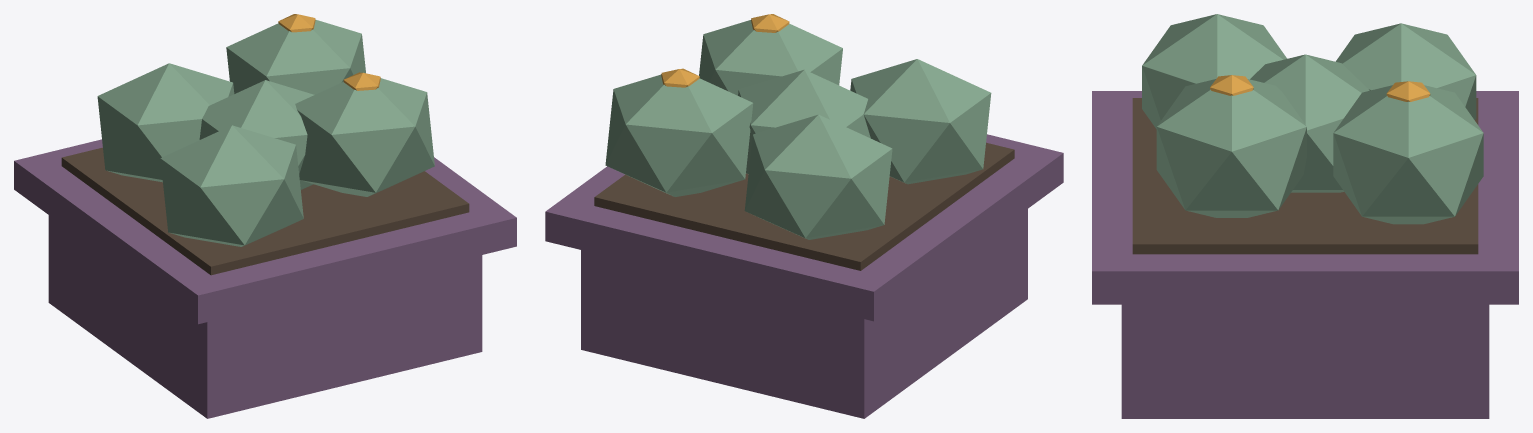
Rendered from furniture_planter.glb.
The picture shows the model from 3 angles, left to right: view 1: azimuth 30°, elevation 25°; view 2: azimuth 150°, elevation 25°; view 3: azimuth 270°, elevation 25°; orthographic projection. The views are drawn at different scales.
Parts seen in each view (by area): view 1: furniture_planter plum, furniture_planter leaf, furniture_planter patina, furniture_planter pine, furniture_planter soil, furniture_planter ochre; view 2: furniture_planter plum, furniture_planter leaf, furniture_planter patina, furniture_planter pine, furniture_planter soil, furniture_planter ochre; view 3: furniture_planter plum, furniture_planter patina, furniture_planter pine, furniture_planter leaf, furniture_planter soil, furniture_planter ochre.
Boxes of the visible parts, x1=… form: furniture_planter plum: x1=48, y1=215, x2=482, y2=418; furniture_planter leaf: x1=97, y1=63, x2=314, y2=246; furniture_planter patina: x1=14, y1=139, x2=516, y2=324; furniture_planter pine: x1=226, y1=20, x2=434, y2=196; furniture_planter soil: x1=61, y1=147, x2=469, y2=275; furniture_planter ochre: x1=278, y1=14, x2=380, y2=90; furniture_planter plum: x1=581, y1=209, x2=1027, y2=418; furniture_planter leaf: x1=738, y1=59, x2=991, y2=239; furniture_planter patina: x1=545, y1=134, x2=1063, y2=321; furniture_planter pine: x1=605, y1=20, x2=842, y2=196; furniture_planter soil: x1=594, y1=142, x2=1014, y2=270; furniture_planter ochre: x1=661, y1=14, x2=789, y2=87; furniture_planter plum: x1=1121, y1=304, x2=1489, y2=418; furniture_planter patina: x1=1092, y1=91, x2=1518, y2=304; furniture_planter pine: x1=1156, y1=79, x2=1483, y2=224; furniture_planter leaf: x1=1142, y1=14, x2=1476, y2=192; furniture_planter soil: x1=1132, y1=98, x2=1478, y2=254; furniture_planter ochre: x1=1210, y1=75, x2=1430, y2=101.
Size of the model in its own units: 0.58 by 0.455 by 0.58.
